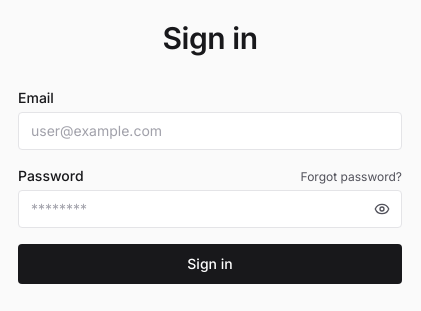
Test: LoginPage › shows a validation error for invalid email
Expected: the heading "Sign in" is shown, [162, 20, 258, 56]
Type "not-an-email" into the field labelled "Email" at x=210, y=131, box [18, 112, 402, 150]
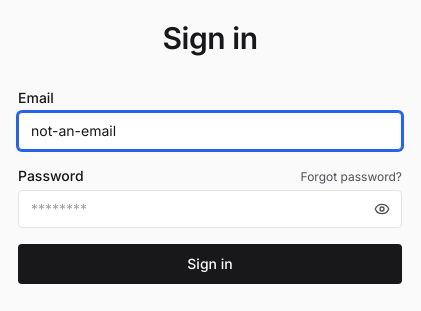
Type "pw" into the password field labelled "Password" at x=210, y=209, box [18, 190, 402, 228]
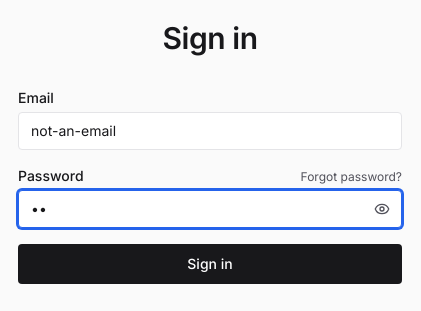
Click the button "Sign in" at x=210, y=264, box [18, 244, 402, 284]
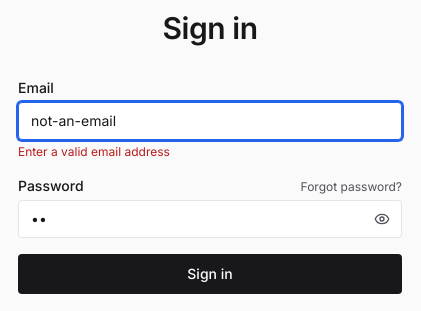
Now the text "Enter a valid email address" is shown, box [18, 144, 170, 159]
